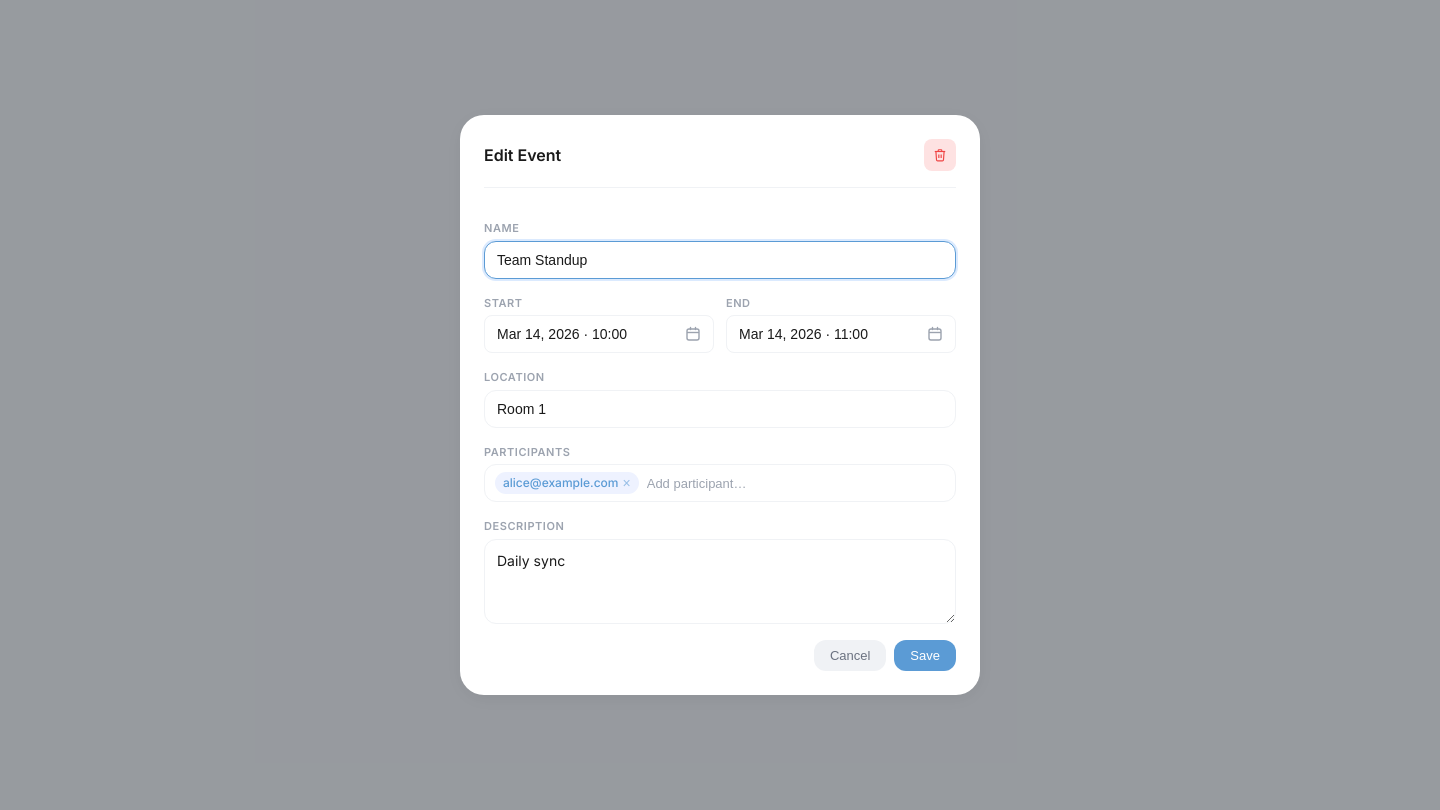
Test: EventEditModal — save › Save button is disabled when the name is cleared
Clear the field showing "Team Standup" below "Name". click: (720, 260)
box: [484,241,956,279]
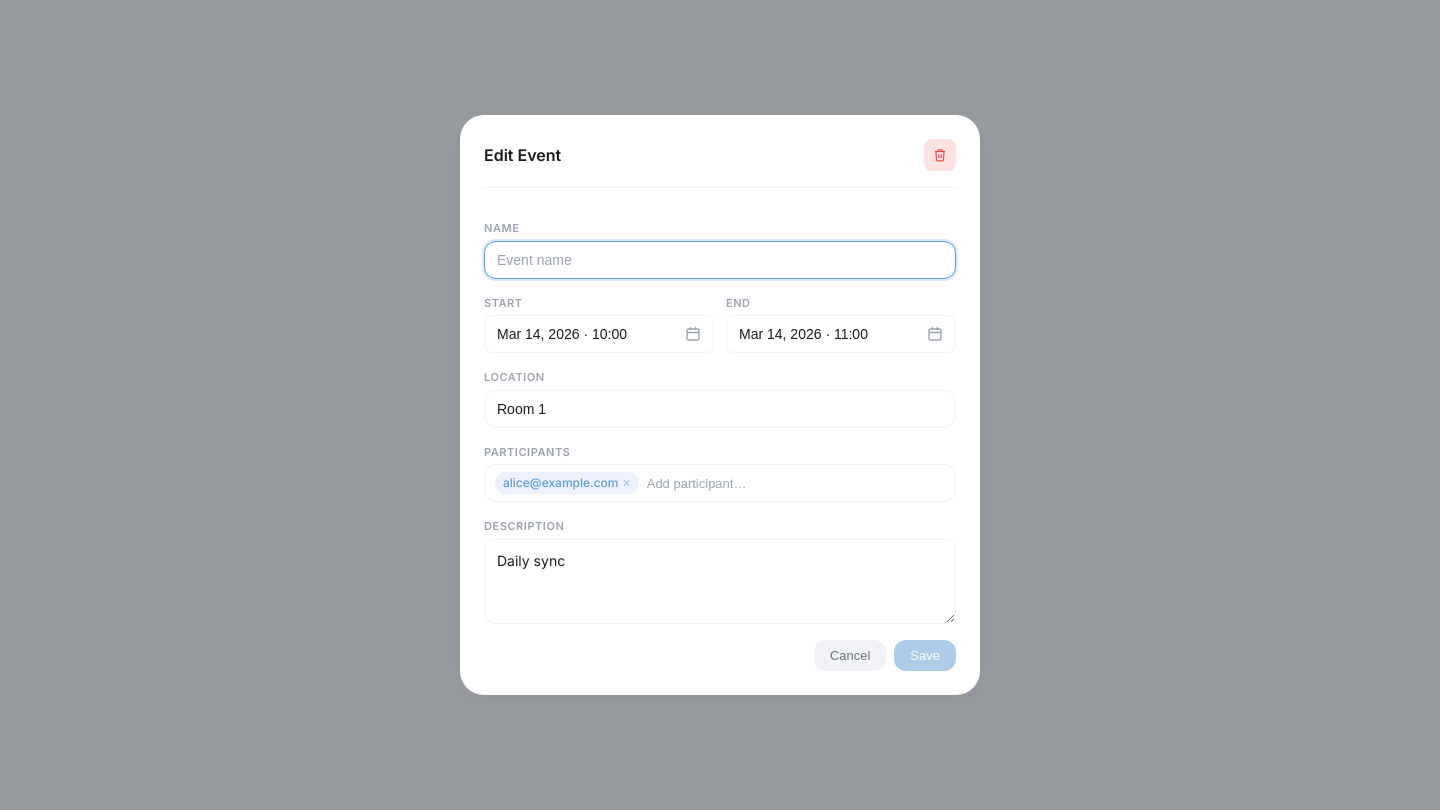
Expected: the button "Save" is disabled, [894,640,956,671]
